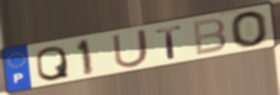1: (74, 38, 96, 78)
B: (190, 17, 228, 58)
O: (228, 10, 271, 49)
Q: (35, 44, 72, 82)
T: (154, 24, 185, 61)
U: (110, 27, 151, 70)
